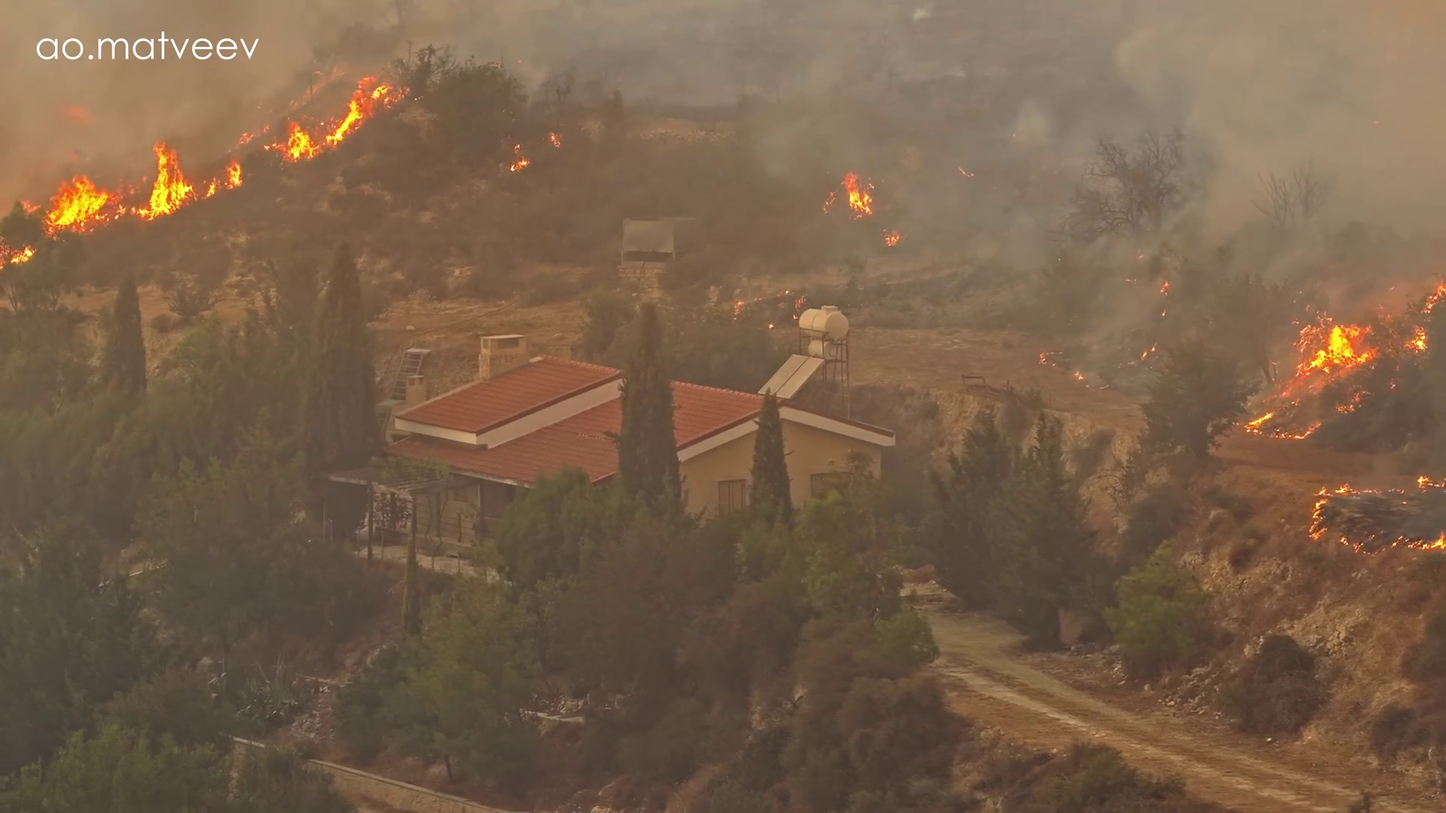forest_fire: (1245, 317, 1426, 436), (43, 142, 241, 233), (263, 76, 402, 161), (1309, 476, 1445, 551), (822, 171, 873, 218), (237, 126, 269, 145), (6, 246, 33, 263)
